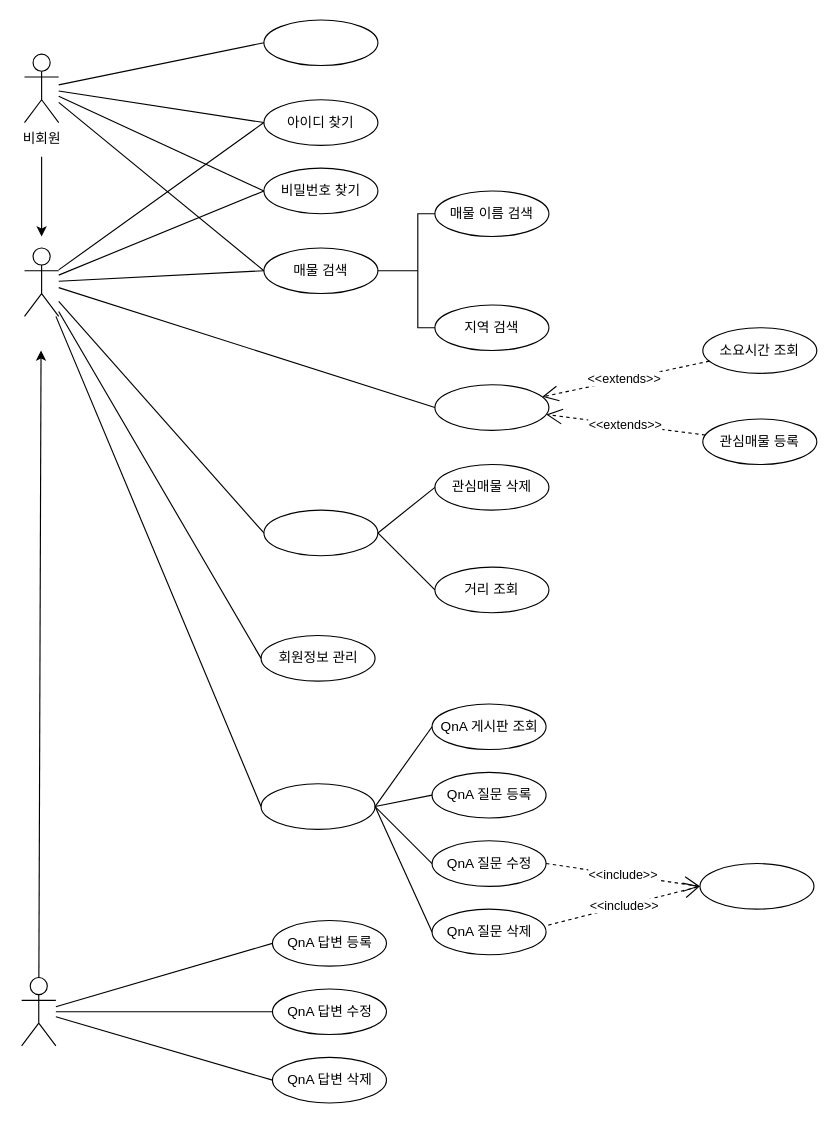
Some shapes in this 837 by 1123 pixel diagram are drawn without their labels. The centre of each missing label's shape, as x and y in pixels:
QnA 질문 관리: the point at 317,806
관리자: the point at 38,1011
관심매물 관리: the point at 320,532
매물 상세조회: the point at 491,407
회원: the point at 41,281
회원 인증: the point at 756,885
회원가입: the point at 320,42
